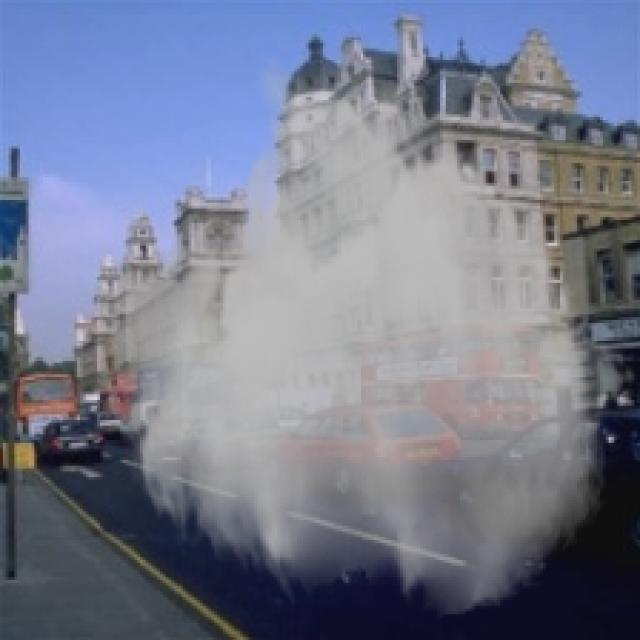Smoke: (100, 57, 637, 620)
